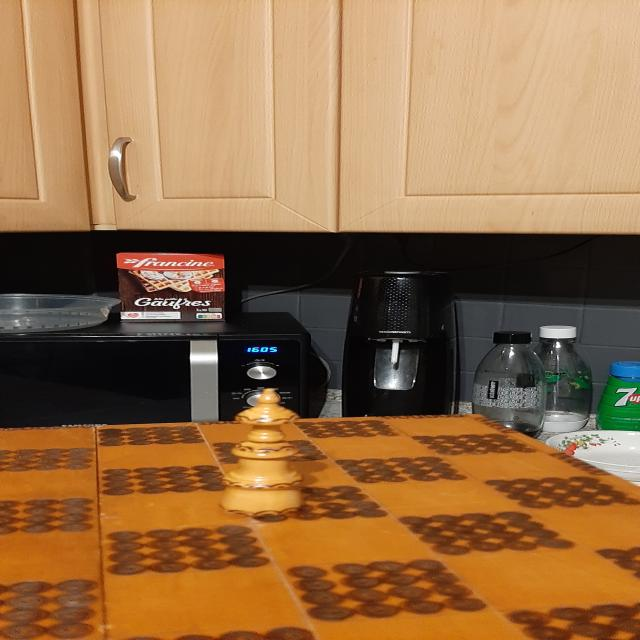white-king: (219, 388, 305, 517)
